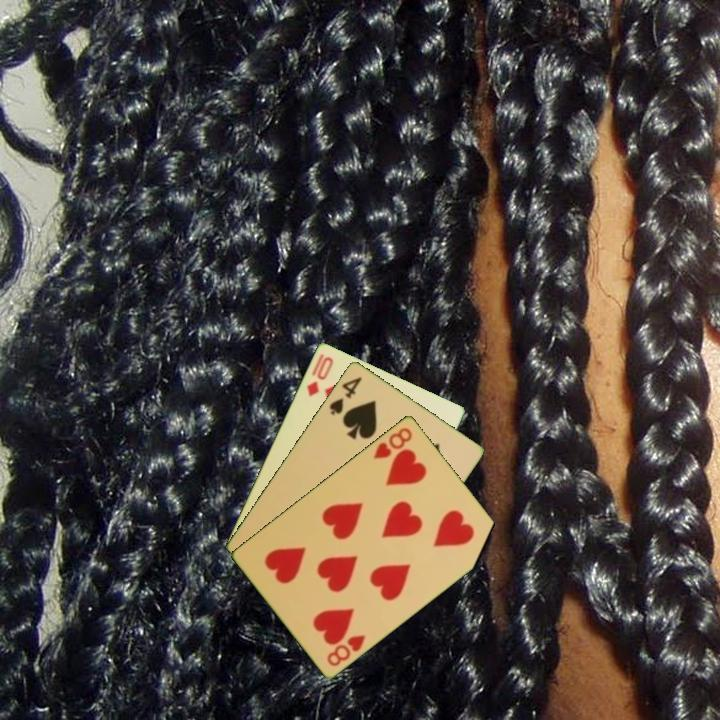10d: (303, 350, 336, 399)
4s: (326, 373, 365, 417)
8h: (370, 423, 415, 462), (323, 631, 368, 669)
